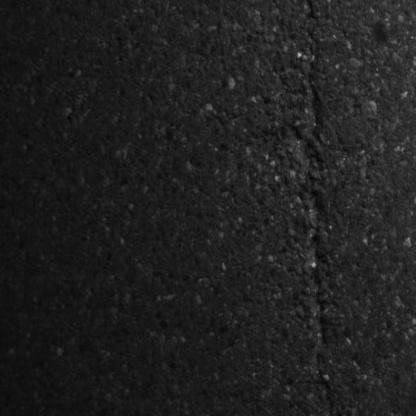Cracks: (299, 0, 345, 416)
